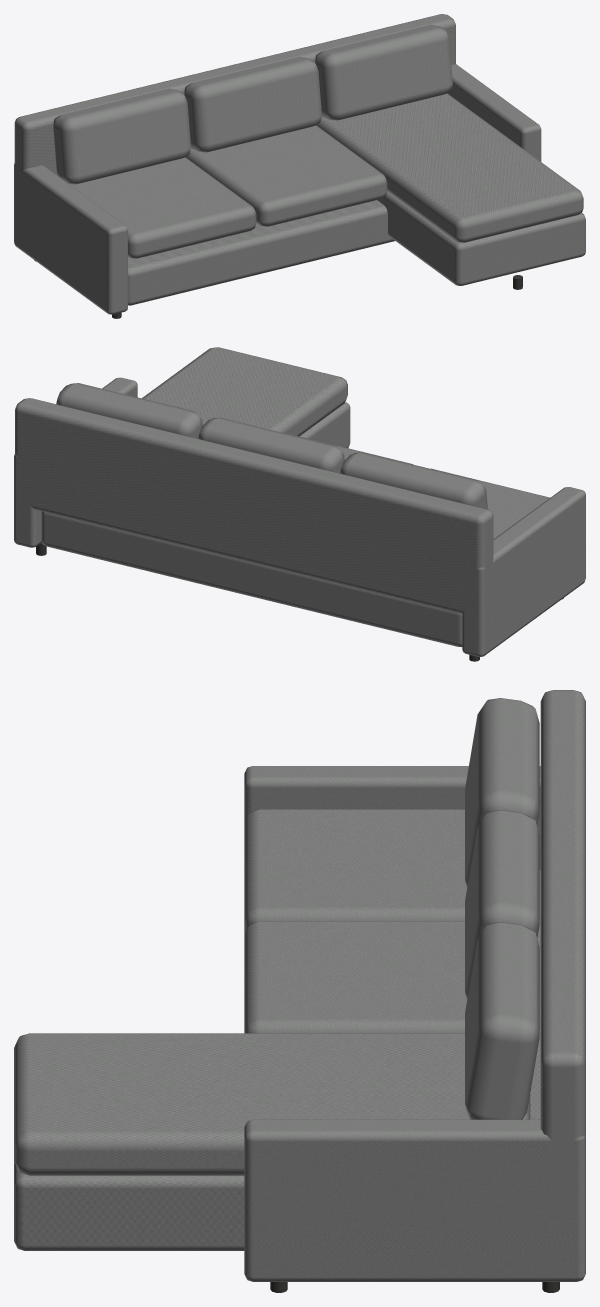
File: vimle-mobile.glb
The picture shows the model from 3 angles, top to bottom: view 1: azimuth 30°, elevation 25°; view 2: azimuth 150°, elevation 25°; view 3: azimuth 270°, elevation 25°; orthographic projection. The views are drawn at different scales.
Parts seen in each view (by area): view 1: VIMLE 3-seat chaise sofa; view 2: VIMLE 3-seat chaise sofa; view 3: VIMLE 3-seat chaise sofa.
Part boxes in pixels (<box>): VIMLE 3-seat chaise sofa: <box>14,14,585,318</box>; VIMLE 3-seat chaise sofa: <box>14,347,585,661</box>; VIMLE 3-seat chaise sofa: <box>14,690,585,1292</box>.
Size of the model in its own units: 2.52 by 0.83 by 1.64.
Materials: 2 (2 with a texture image).
